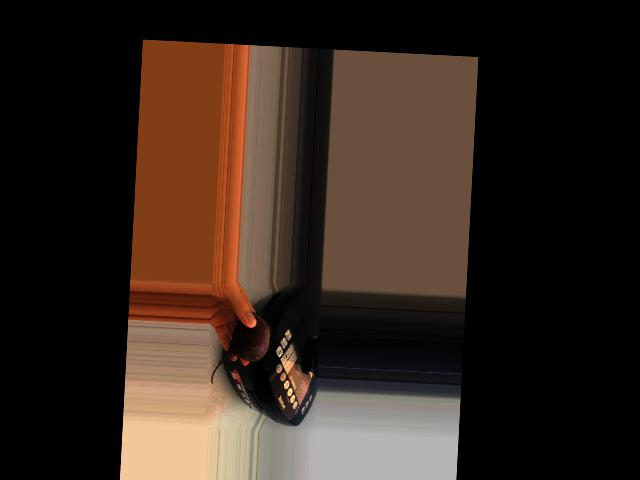beet: (210, 310, 273, 387)
